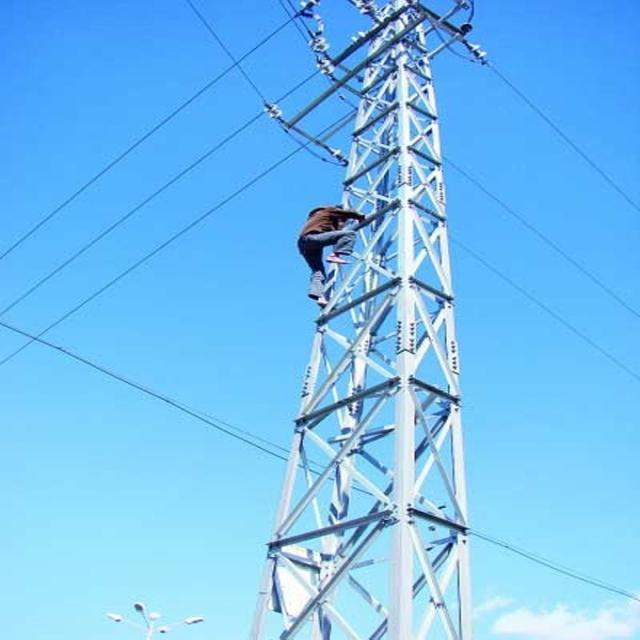non-critical vegetation: (266, 26, 486, 632)
